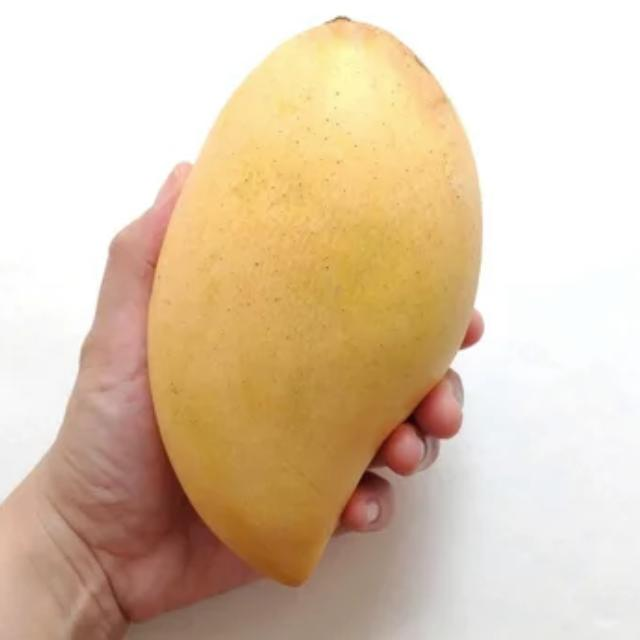mango: (140, 11, 483, 596)
